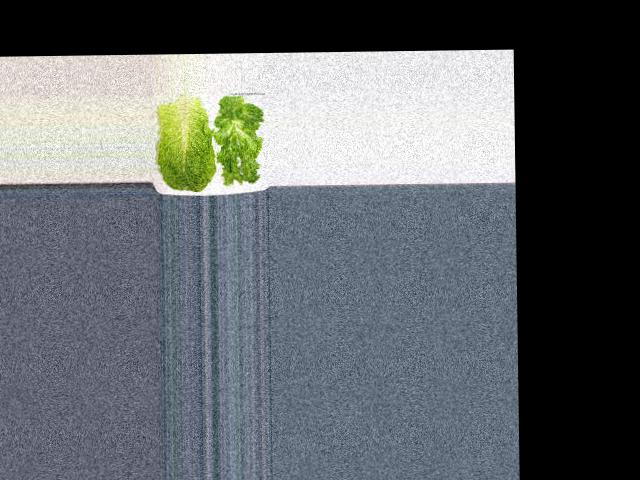lettuce: (215, 98, 270, 186)
